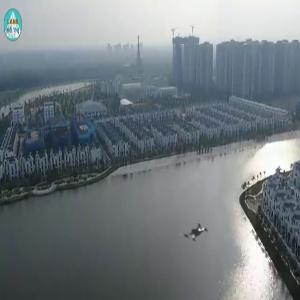drone: (174, 210, 221, 257)
